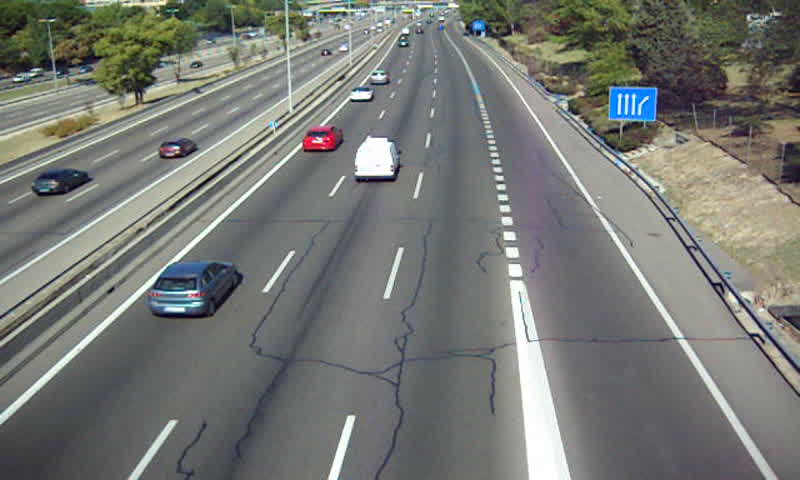car: (149, 263, 237, 317), (304, 126, 343, 150), (348, 87, 374, 101), (369, 69, 388, 85)
van: (355, 138, 400, 182)
